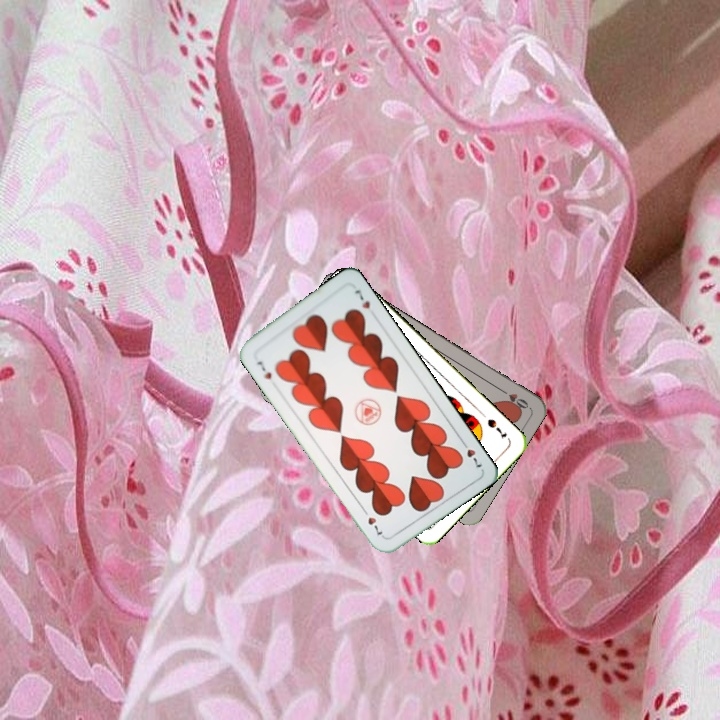H7: (457, 436, 484, 470), (253, 357, 274, 382)
HO: (495, 384, 531, 412)
S7: (483, 415, 509, 441)
